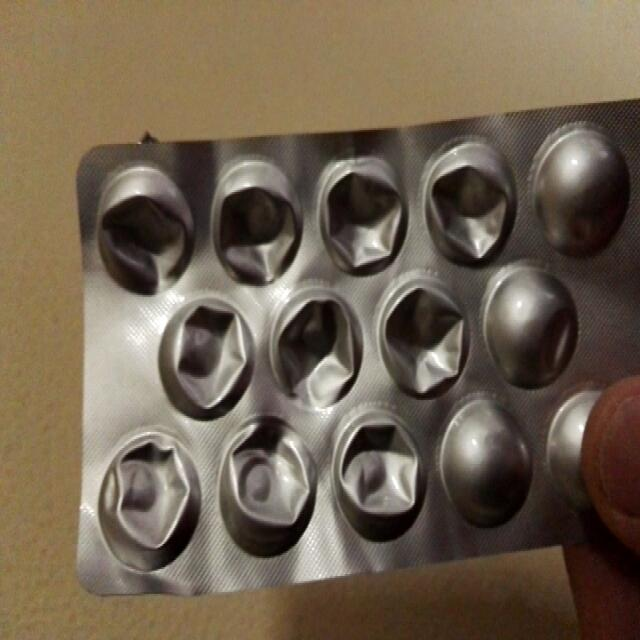Empty: (223, 413, 323, 572), (96, 427, 200, 576), (206, 146, 306, 284), (92, 148, 186, 293), (337, 403, 429, 551), (417, 127, 514, 264), (268, 282, 364, 408), (319, 144, 408, 278), (160, 294, 253, 418), (380, 278, 469, 394)
Pill: (524, 120, 631, 256), (440, 395, 530, 531), (483, 264, 580, 380), (541, 384, 607, 531)
